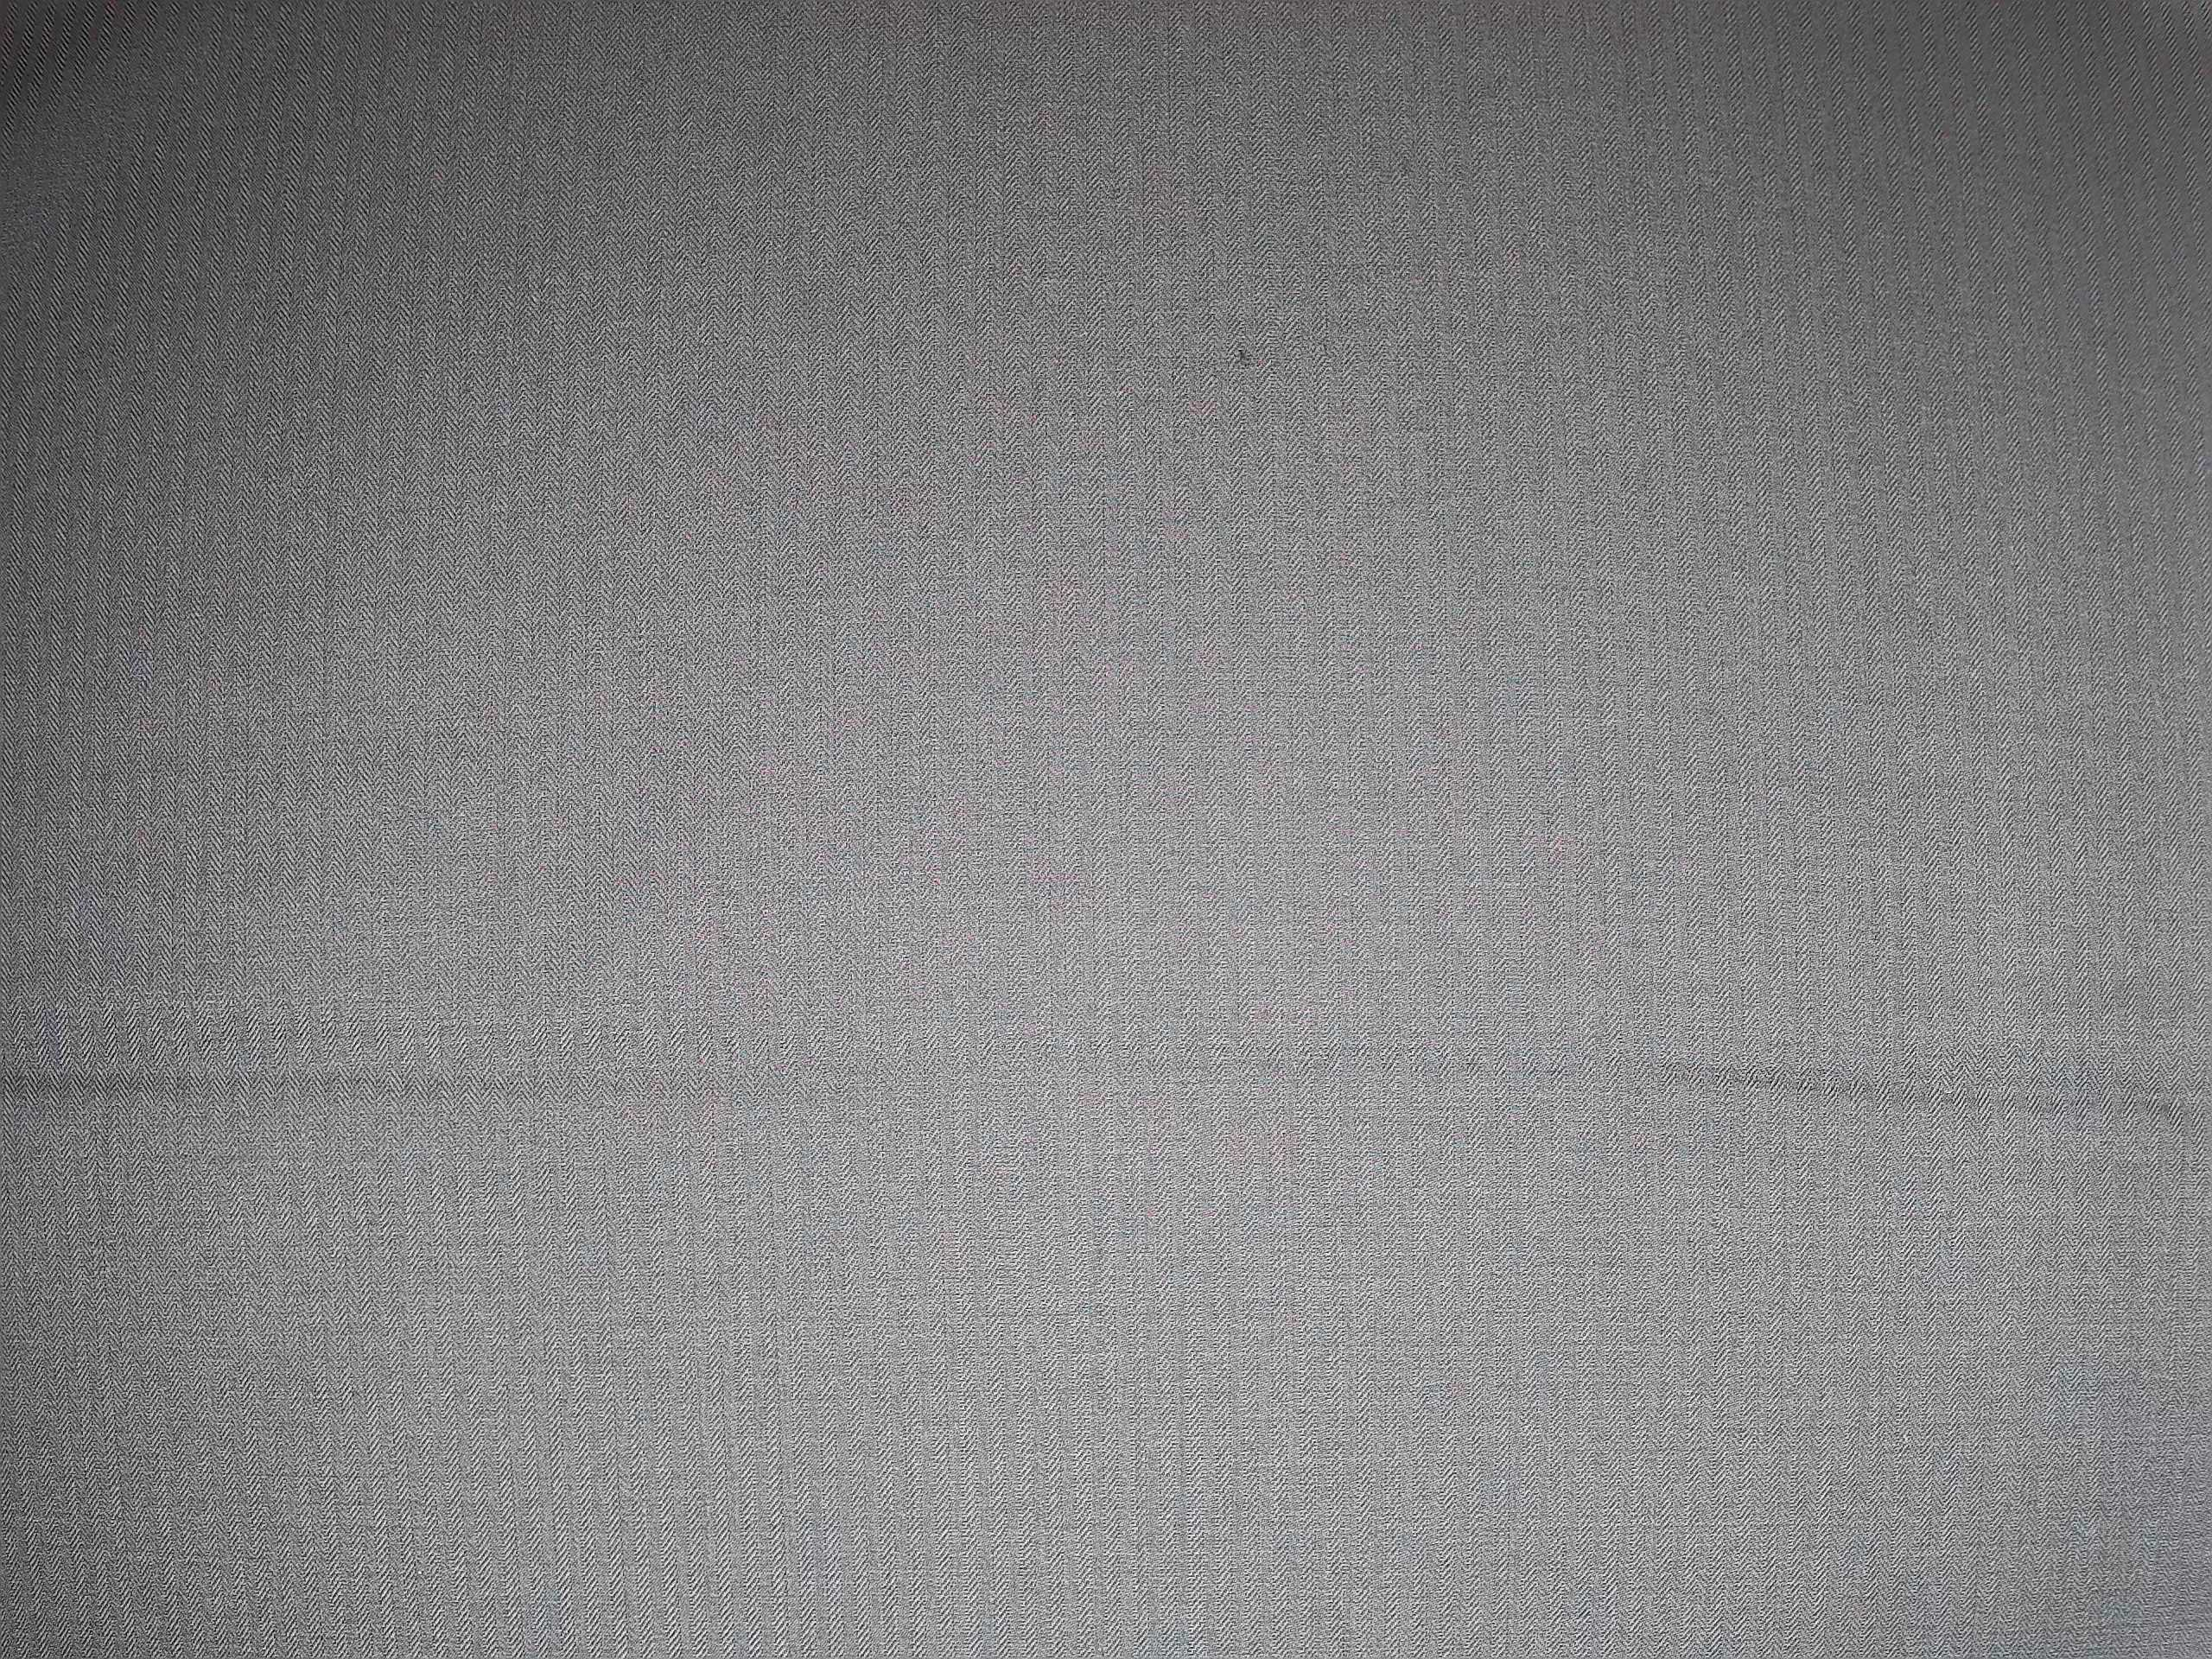rubbing-hole: (1221, 333, 1264, 378)
